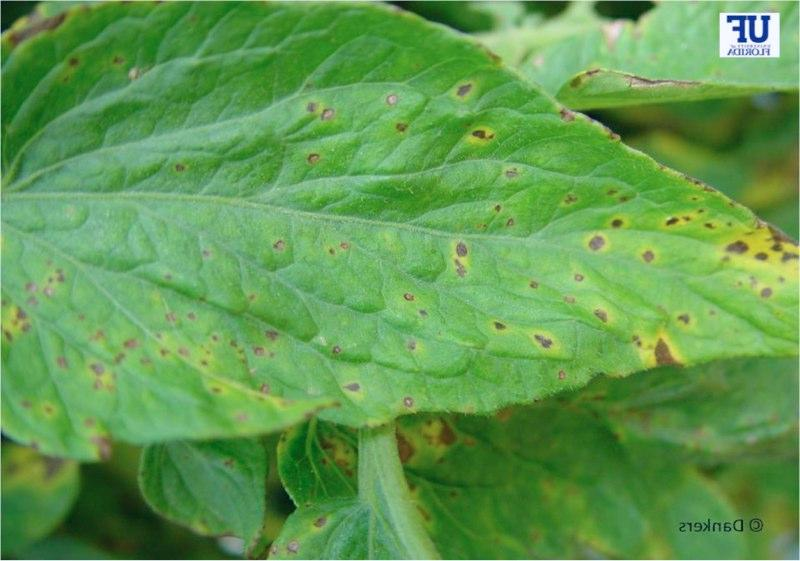Tomato leaf bacterial spot: (1, 21, 787, 473)
